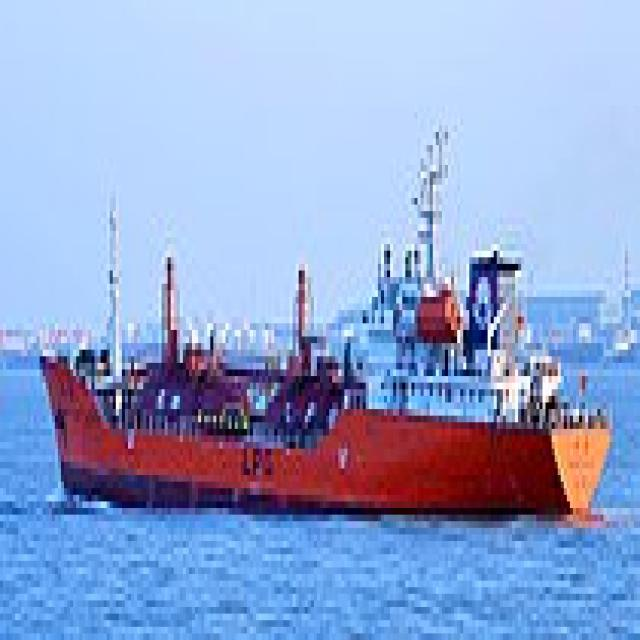Tanker: (33, 112, 612, 521)
